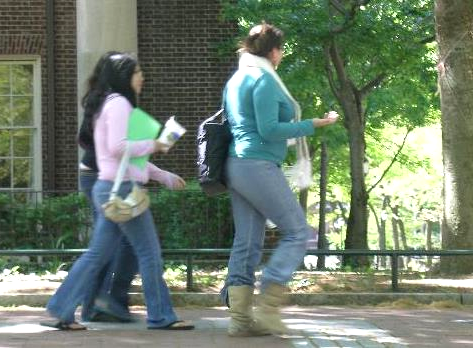pedestrian: (42, 51, 194, 330), (219, 24, 340, 337)
